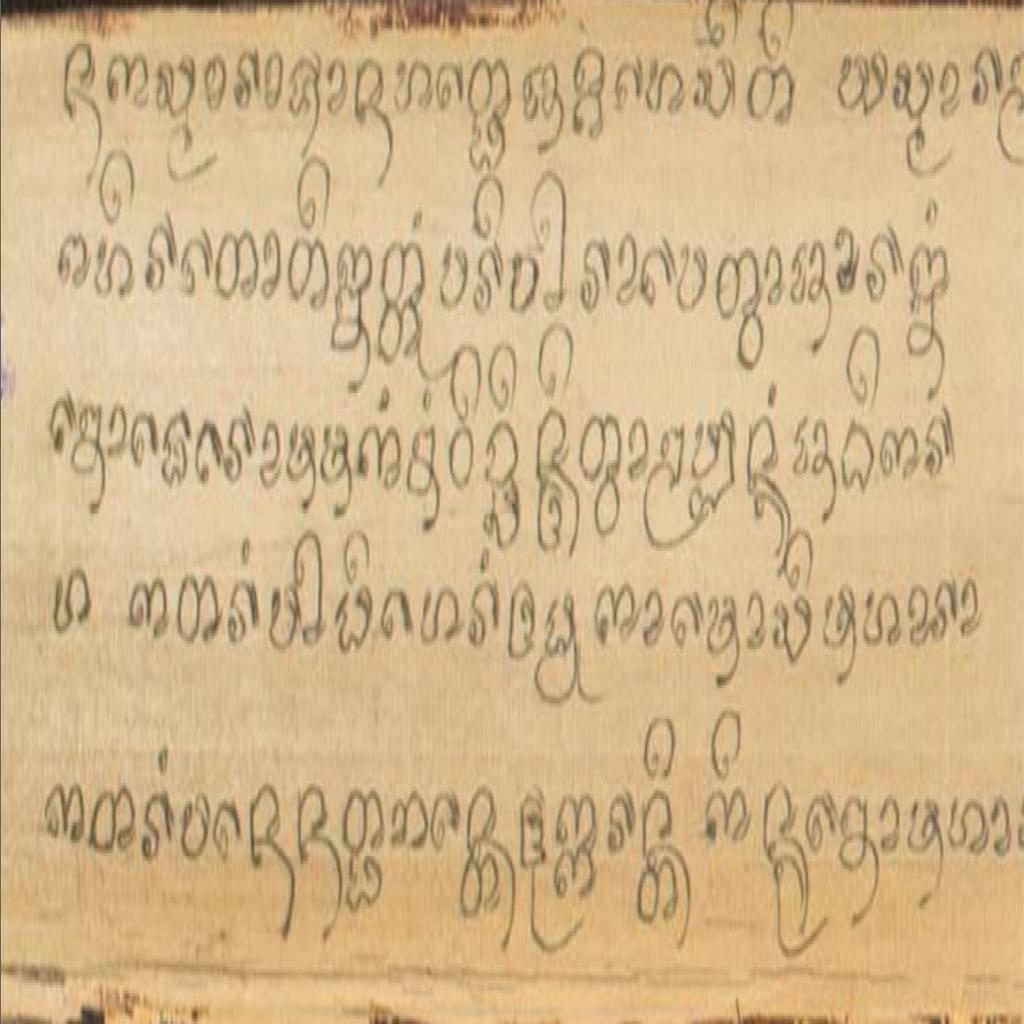LN020: (160, 404, 195, 497)
LN022: (839, 412, 878, 502)
LN041: (791, 408, 834, 484)
